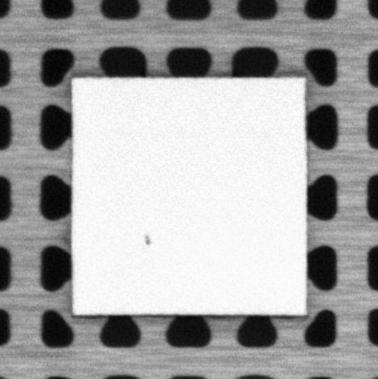DIE_INK: (141, 233, 153, 246)
